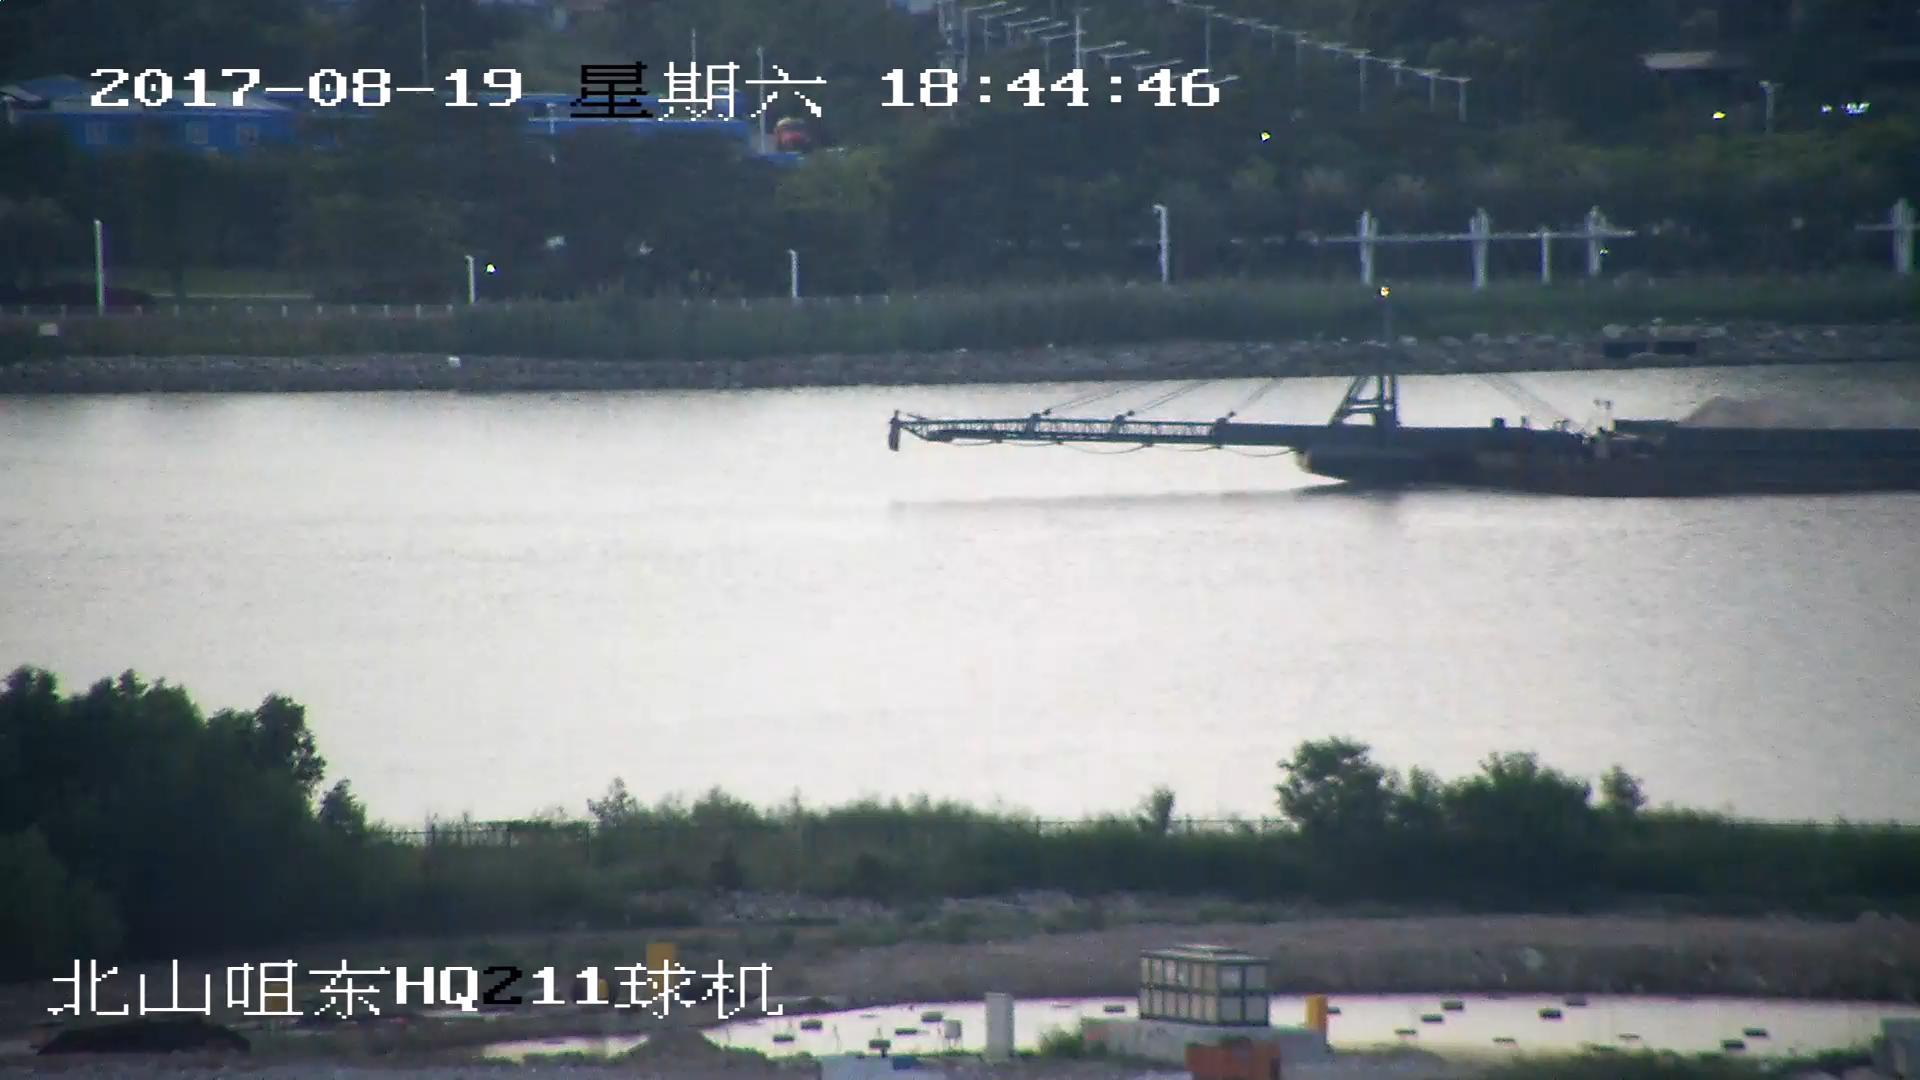Ship: (885, 293, 1920, 502)
